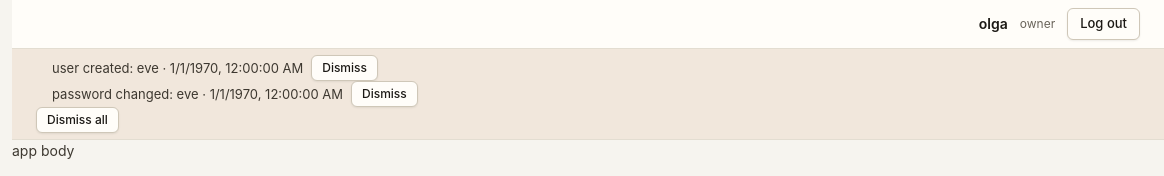
it: AuthGate (spec §7) › acknowledges every open notice with one Dismiss all
The width and height of the screenshot is (1164, 176).
Step 1. Click the button "Dismiss all" → {"x": 77, "y": 120}, box [36,107,119,133]
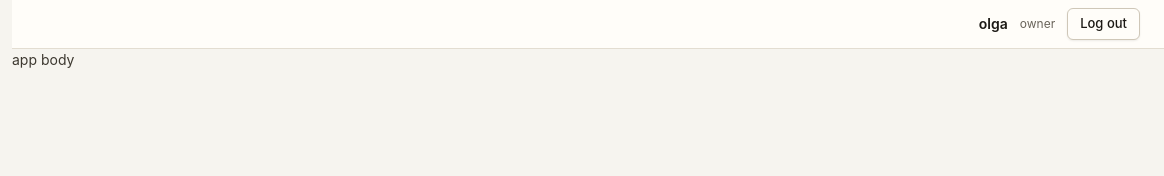
Expected: the element "security notices" is gone
